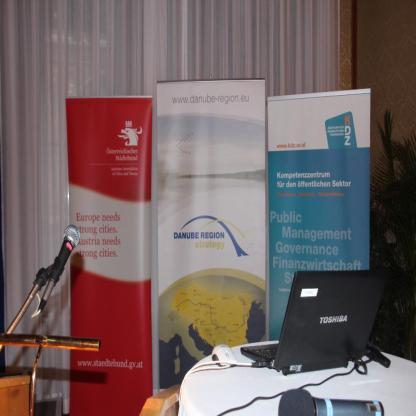board: (239, 270, 387, 371)
